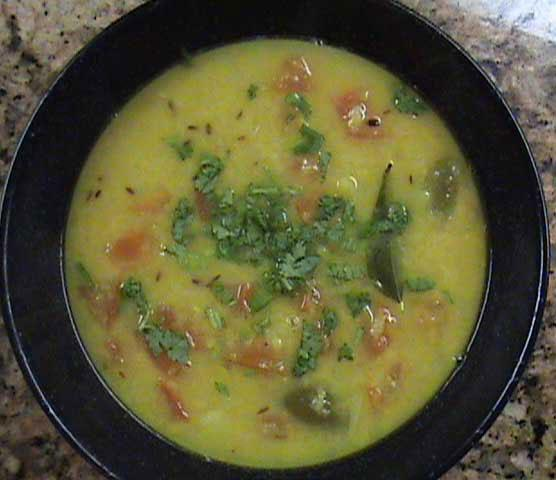varan: (99, 77, 456, 434)
